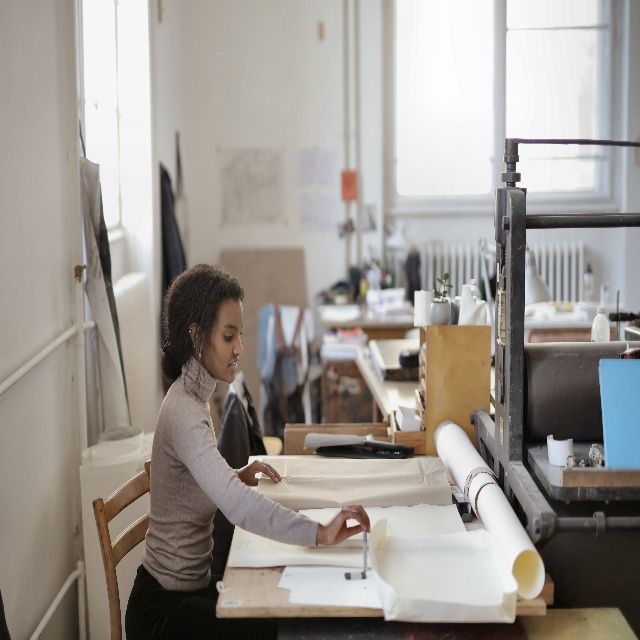Sin_guantes: (328, 500, 371, 548), (238, 458, 282, 489)
